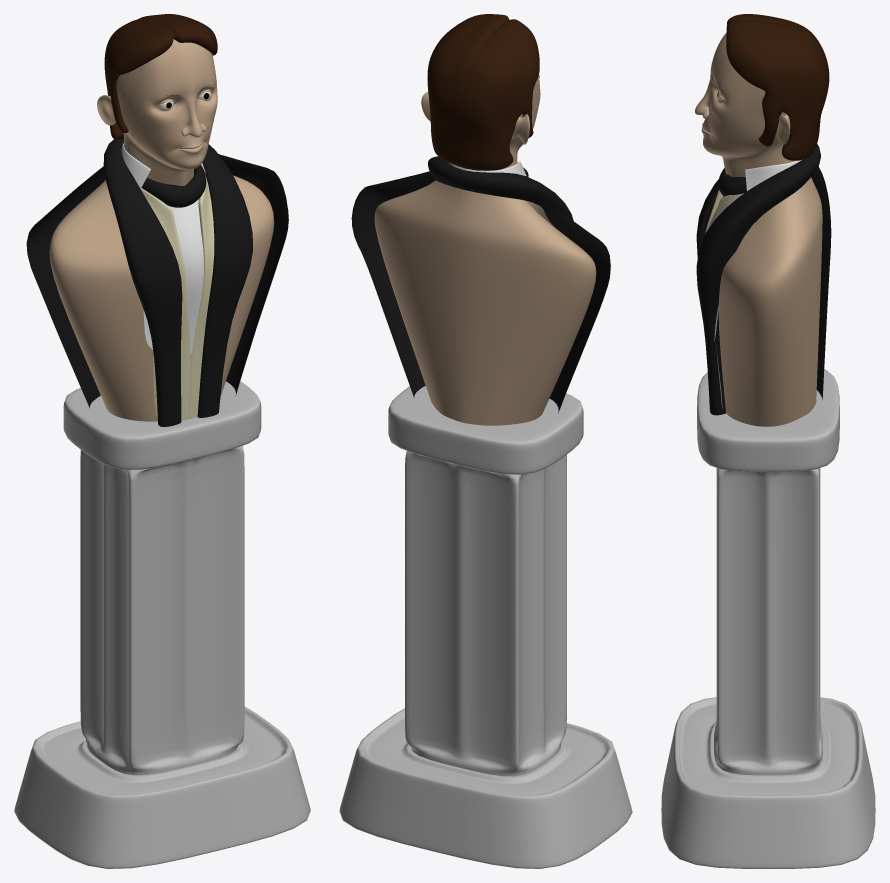
The model's file is Crockett.gltf.
3 views of the same model, side by side, from view 1: azimuth 30°, elevation 25°; view 2: azimuth 150°, elevation 25°; view 3: azimuth 270°, elevation 25° (orthographic).
Visible parts, largest first — view 1: Collumn.003, Cube.003, Plane.004, Hair.001, Plane.006, Plane.007, Cube.005; view 2: Collumn.003, Cube.003, Hair.001, Plane.004; view 3: Collumn.003, Cube.003, Hair.001, Plane.004, Plane.005, Cube.005, Plane.006.
Boxes of the visible parts, x1,y1,x2,y2 form: Collumn.003: (14, 381, 310, 868); Cube.003: (49, 39, 274, 421); Plane.004: (26, 139, 288, 426); Hair.001: (104, 14, 217, 139); Plane.006: (141, 175, 214, 420); Plane.007: (143, 199, 203, 353); Cube.005: (141, 165, 206, 207); Collumn.003: (339, 386, 632, 868); Cube.003: (374, 75, 596, 425); Hair.001: (427, 14, 539, 170); Plane.004: (351, 156, 610, 412); Collumn.003: (661, 369, 875, 868); Cube.003: (695, 32, 822, 426); Hair.001: (726, 14, 829, 160); Plane.004: (696, 144, 831, 415); Plane.005: (745, 159, 802, 191); Cube.005: (718, 168, 746, 196); Plane.006: (705, 190, 743, 408).
Size of the model in its own units: 3.89 by 12.22 by 3.
